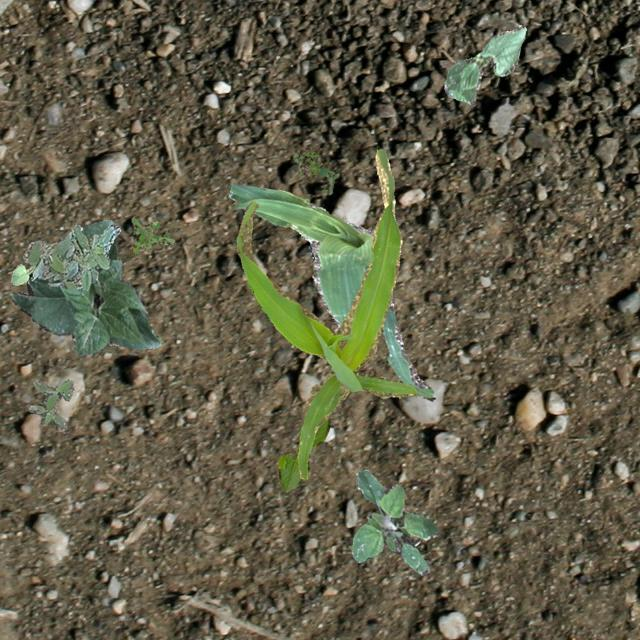crop: (234, 148, 416, 478), (227, 182, 433, 400), (7, 218, 162, 356), (442, 23, 526, 104), (278, 418, 330, 492), (9, 262, 35, 284)
weed: (349, 469, 438, 574), (21, 223, 120, 290), (28, 378, 72, 428), (293, 146, 339, 193), (130, 215, 173, 252)
